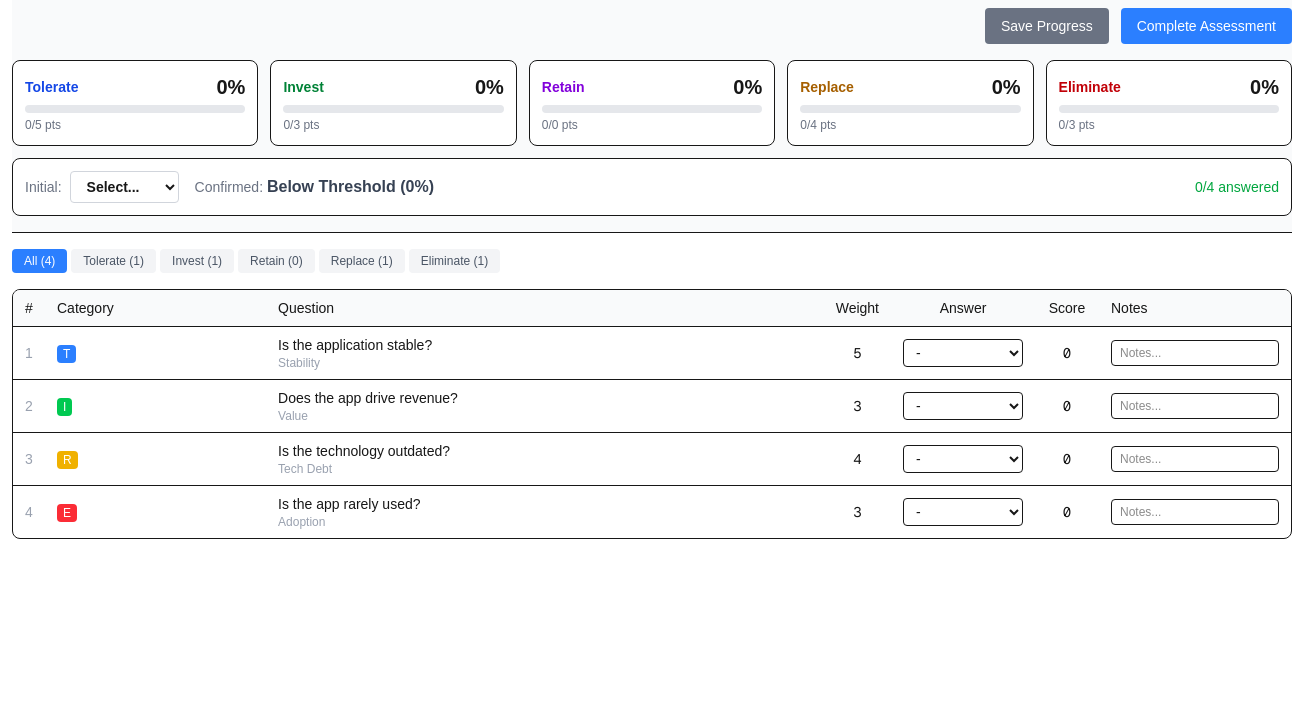
Test: StrategyQuestionsForm › shows save error message
Click the button "Save Progress" at (1047, 26), box 985,8 -> 1109,44
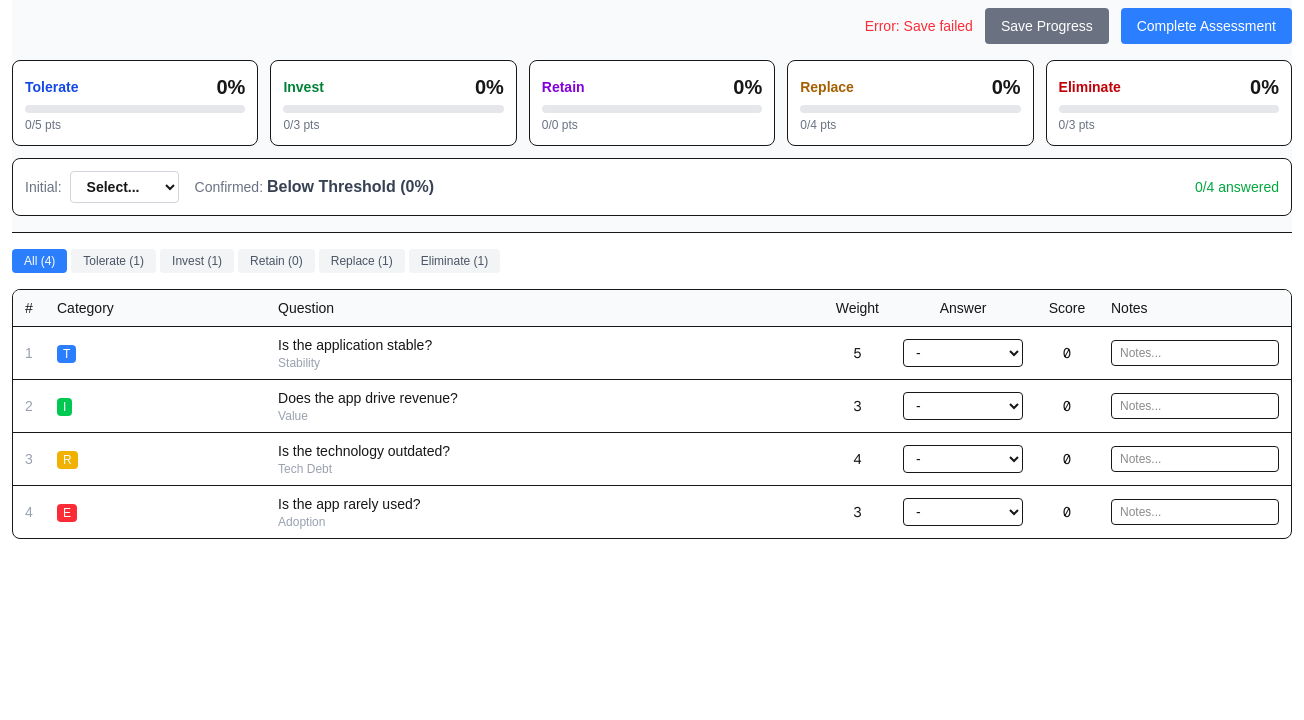
expect the text "Error: Save failed" is shown: met, box 865,16 -> 973,36
